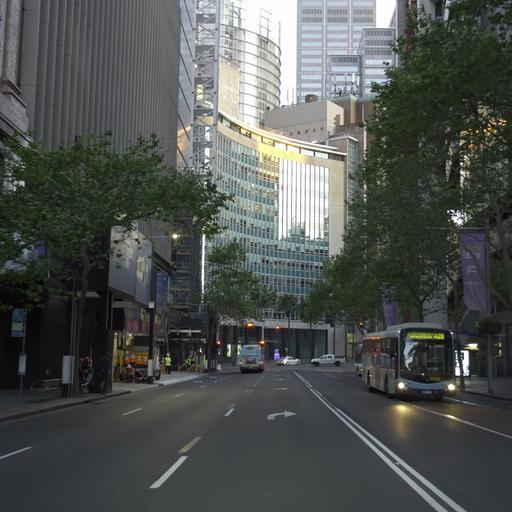Street light: (425, 223, 493, 393), (144, 231, 180, 382), (244, 320, 253, 343)
